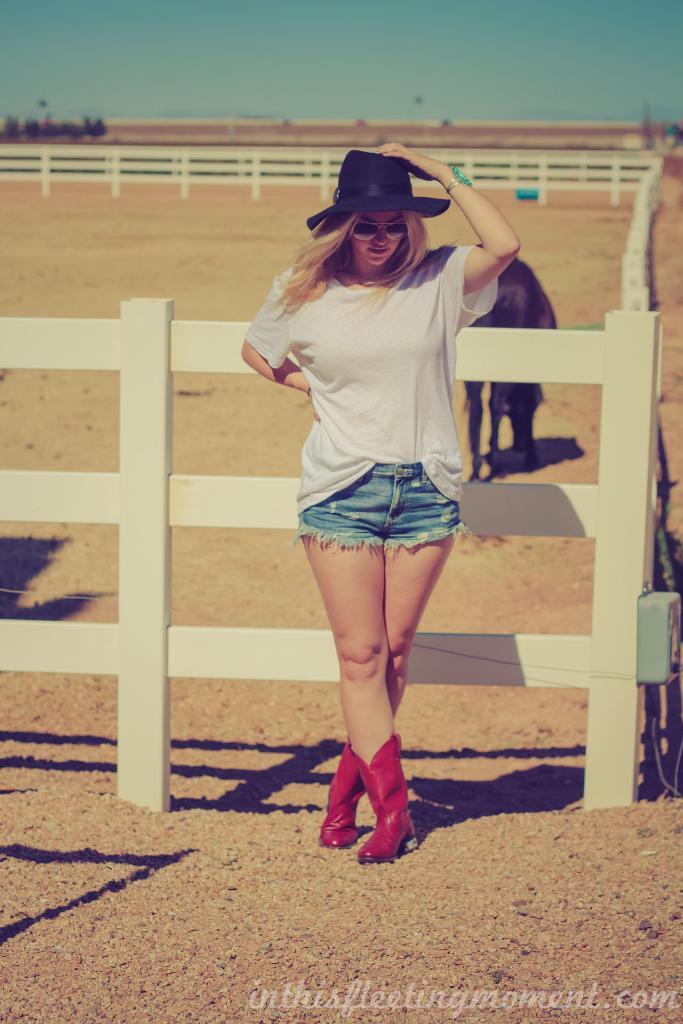Hat: (309, 142, 449, 228)
